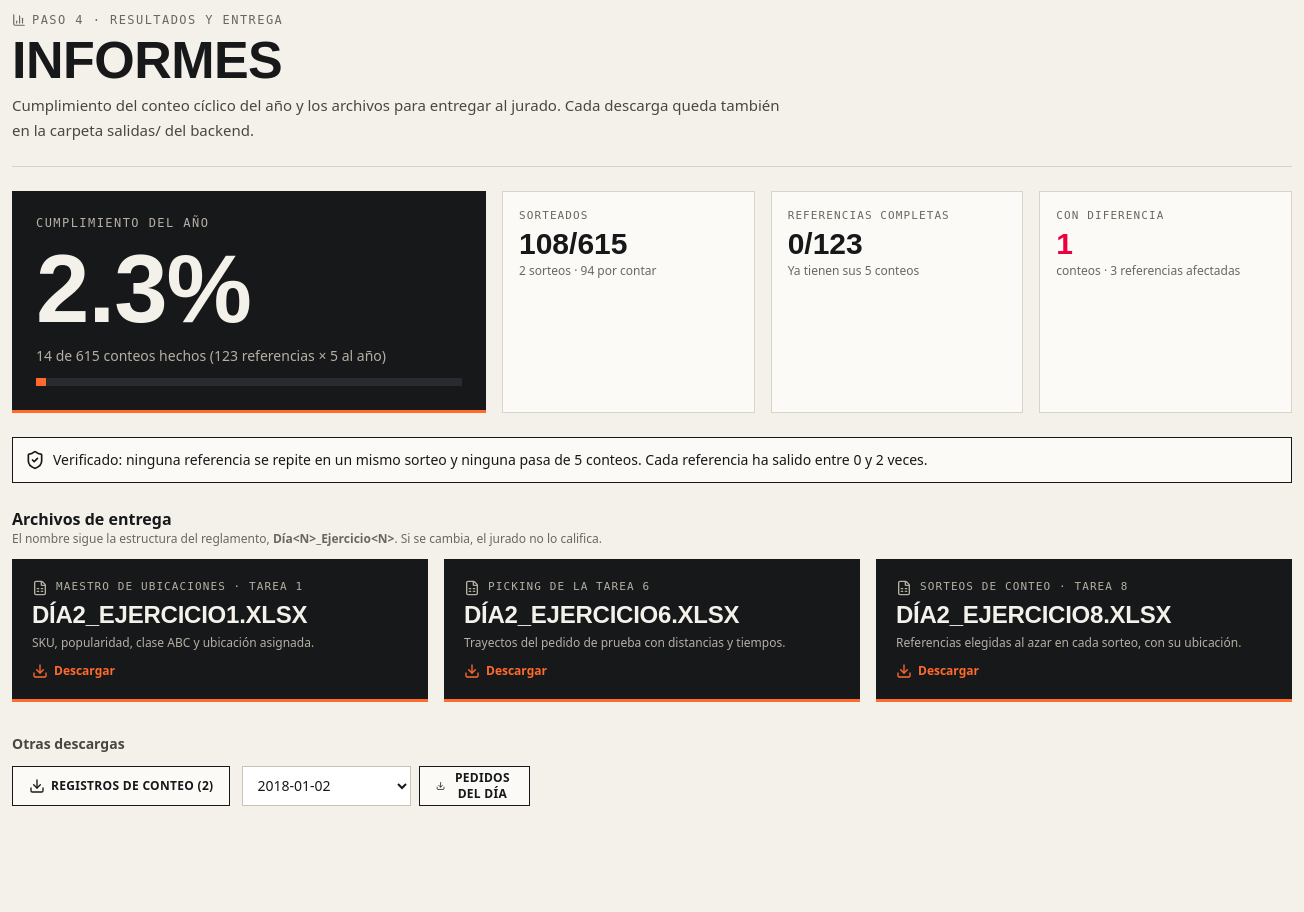
Paso 4: Informes › muestra el cumplimiento en grande, la verificación y descarga con el nombre exacto
Expected: the text "2.3%" is shown, [36,235,251,342]
Expected: the text "Verificado: ninguna referencia se repite" is shown, [53,450,928,469]
Click the button "Día2_Ejercicio6.xlsx" at (652, 630), box [444,559,860,702]
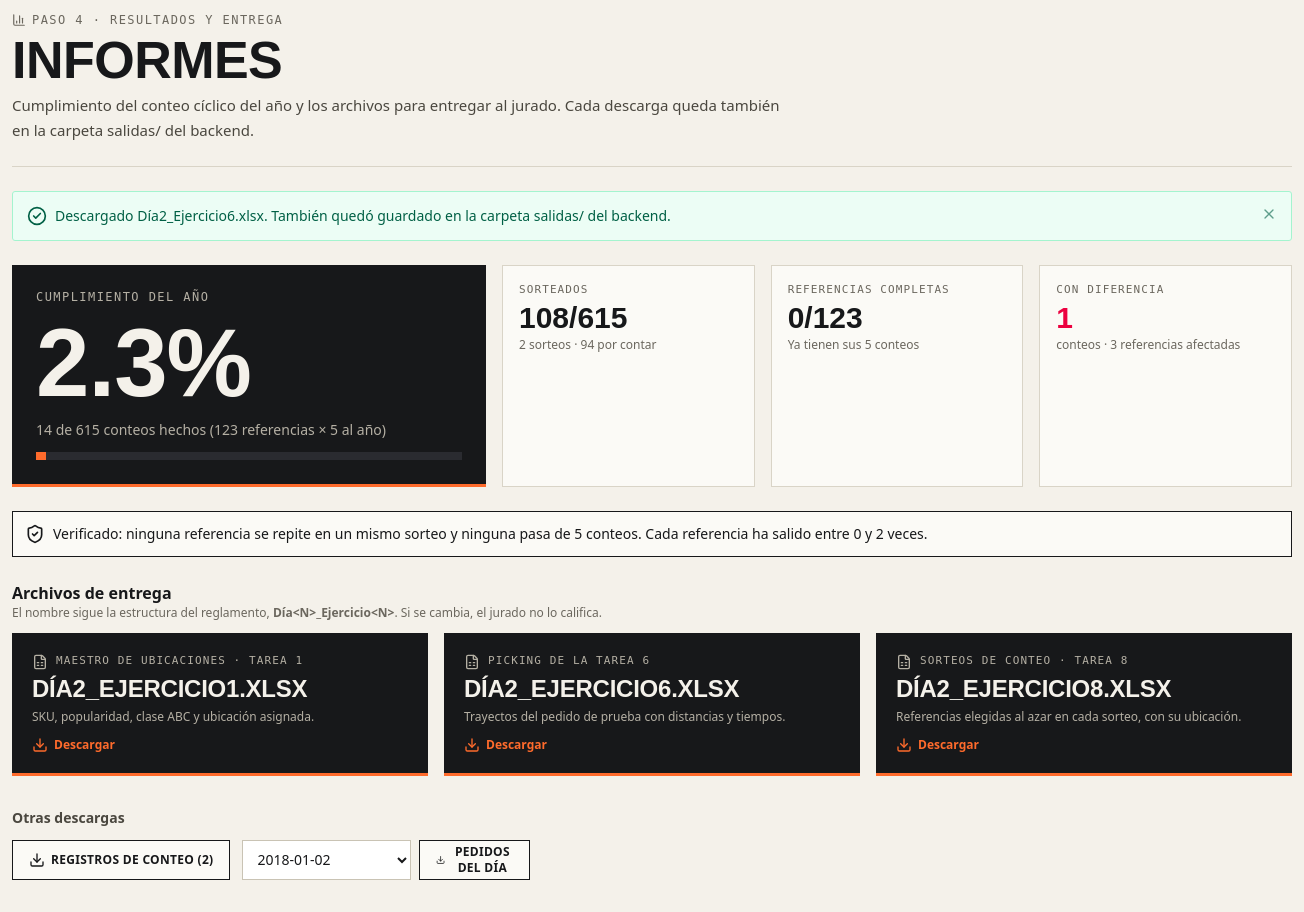
Result: the text "Descargado Día2_Ejercicio6.xlsx" is shown at [55,206,671,225]
